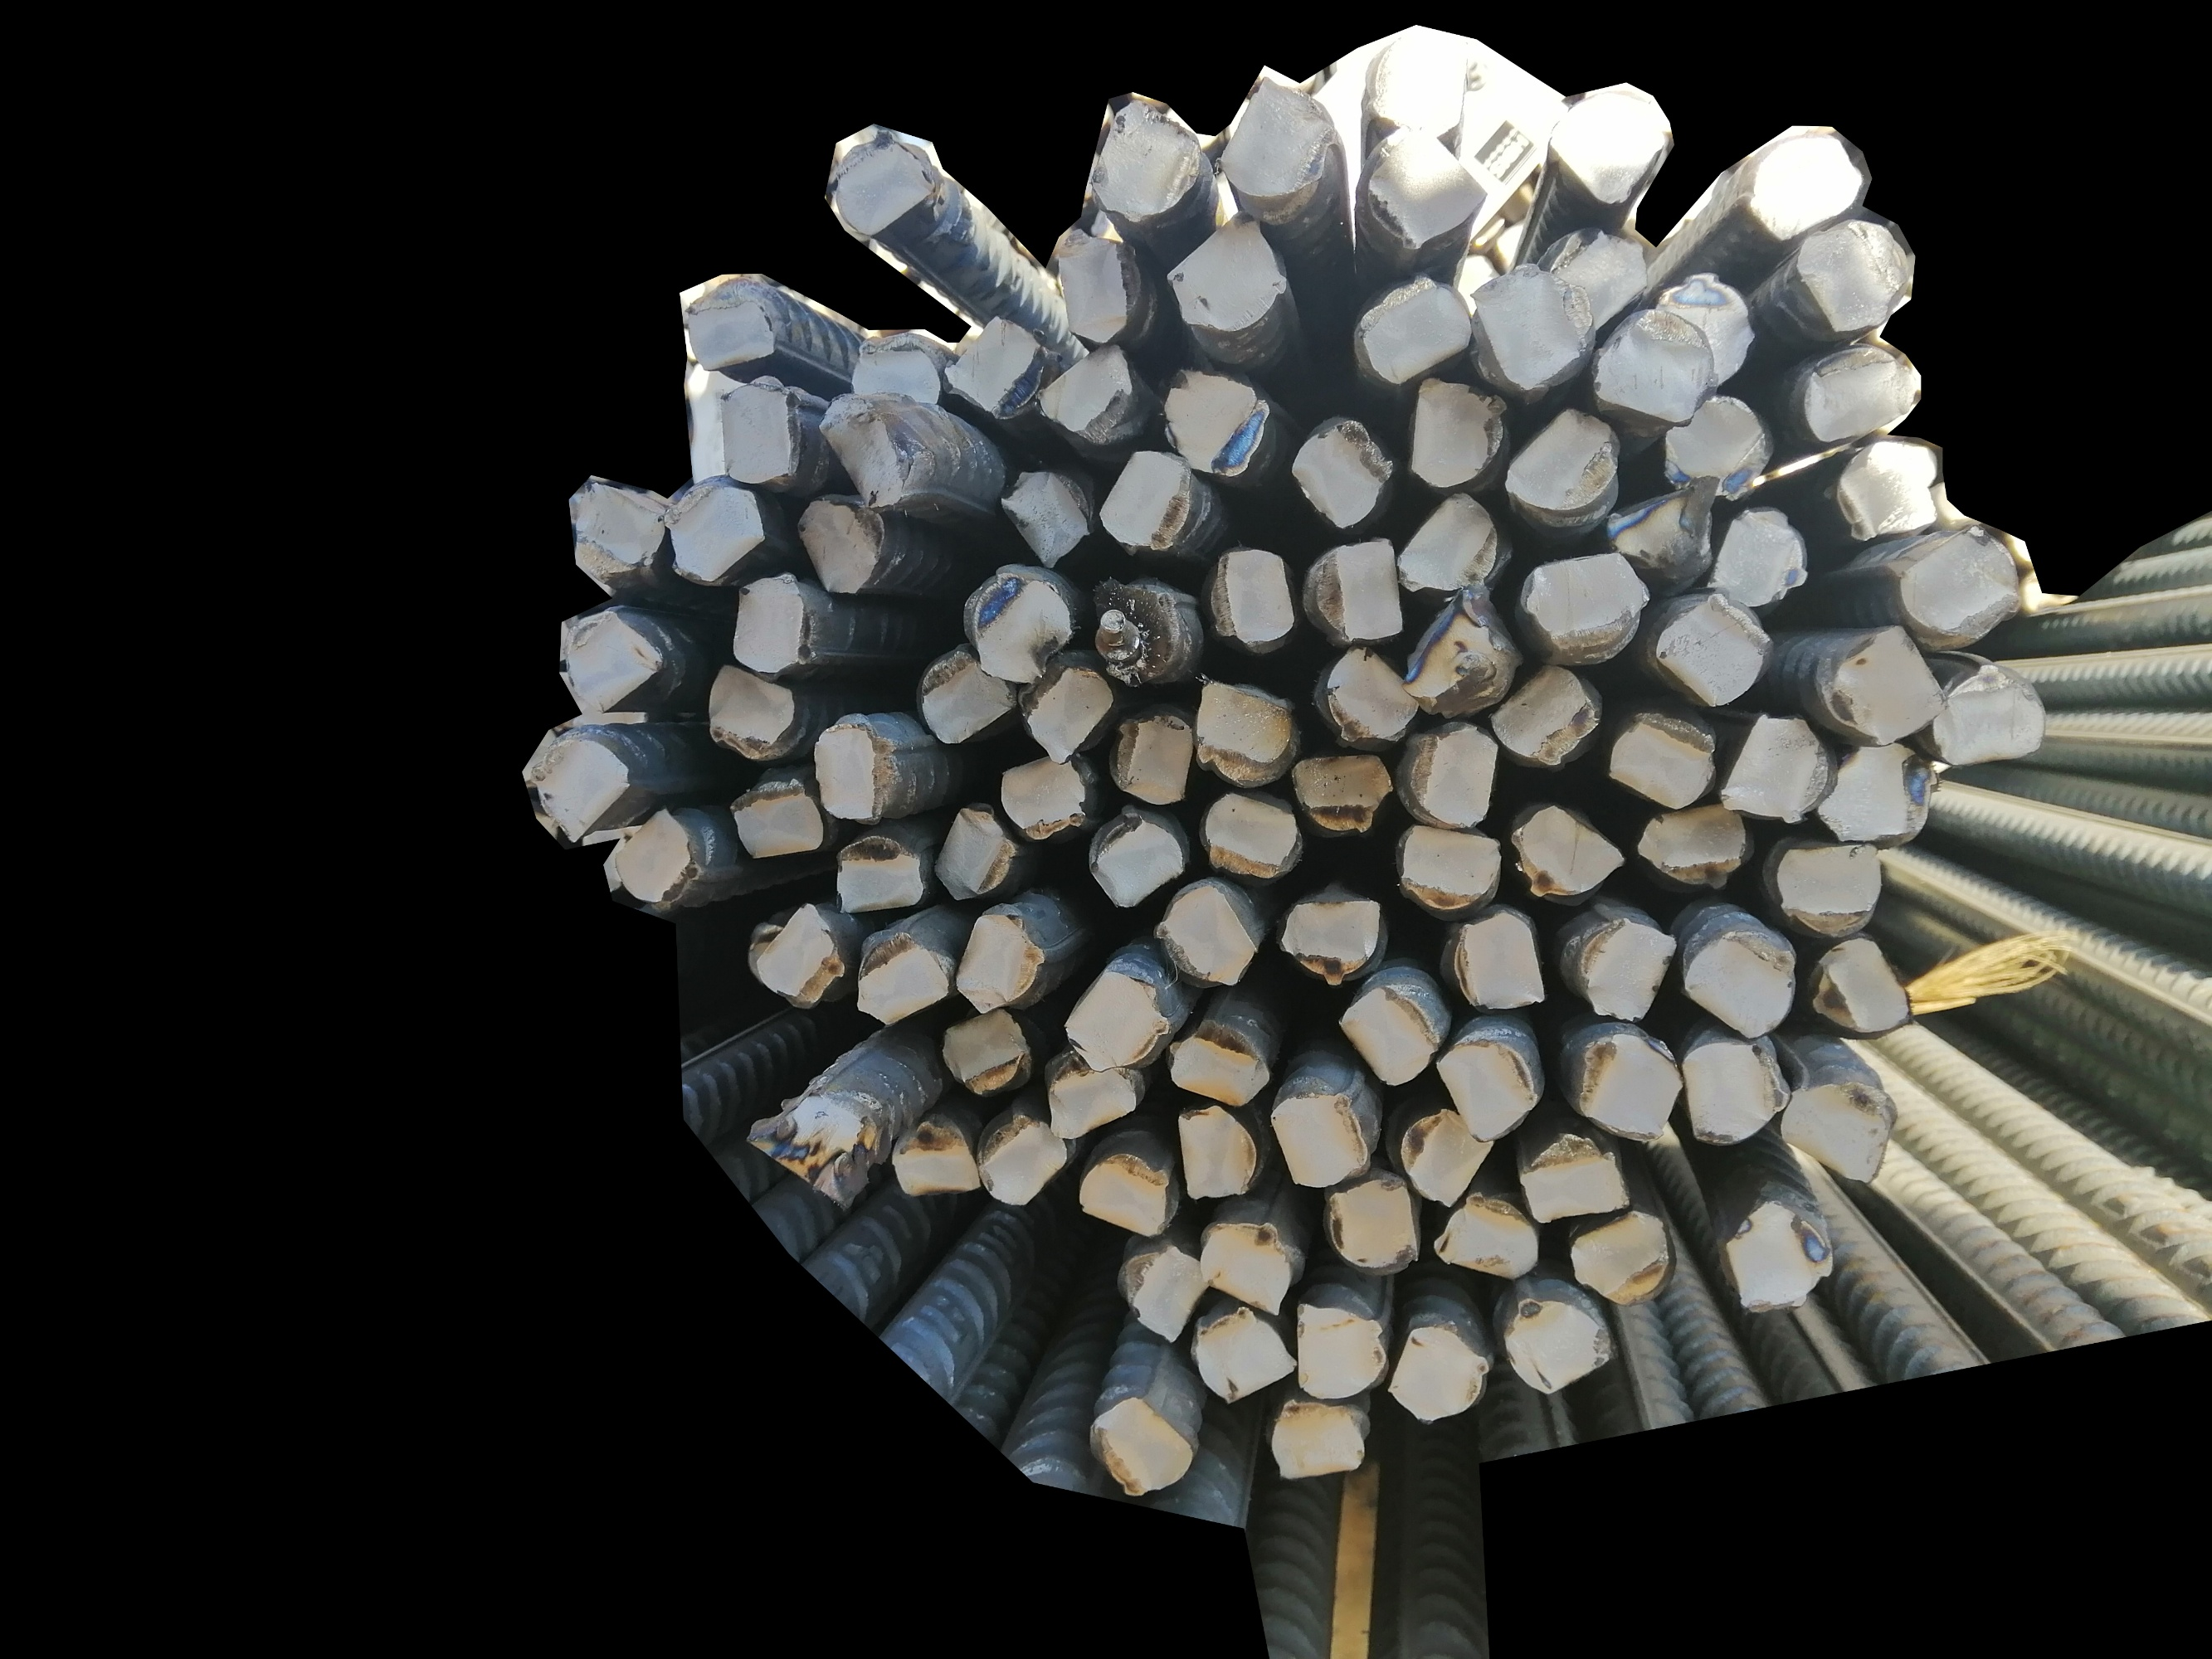rebar: (1469, 260, 1595, 392), (1166, 207, 1290, 336), (1548, 80, 1672, 206), (1217, 77, 1339, 200), (1591, 305, 1715, 427), (1896, 525, 2022, 645), (1745, 122, 1865, 244), (1825, 626, 1949, 744), (1407, 589, 1522, 716), (1520, 549, 1649, 662), (1654, 591, 1774, 711), (748, 1089, 870, 1208), (1368, 125, 1487, 247), (1720, 1190, 1835, 1314), (1095, 96, 1203, 225), (1680, 924, 1797, 1040), (1818, 734, 1938, 847), (1654, 261, 1759, 389), (1534, 221, 1652, 333), (967, 563, 1074, 687), (1928, 662, 2053, 767), (1360, 268, 1471, 385), (1795, 220, 1907, 336), (1722, 711, 1837, 823), (1079, 1392, 1196, 1502), (1572, 1028, 1682, 1143), (1062, 962, 1173, 1072), (1490, 660, 1602, 770), (1504, 408, 1621, 512), (1401, 375, 1511, 484), (1680, 1037, 1790, 1147), (1150, 878, 1259, 990), (1163, 366, 1271, 477), (530, 725, 633, 842), (1799, 342, 1919, 441), (1191, 678, 1300, 786), (1569, 911, 1677, 1021), (1515, 1127, 1633, 1227), (1511, 800, 1626, 901), (1771, 838, 1888, 938), (661, 481, 769, 587), (1265, 1082, 1372, 1190), (1433, 1033, 1541, 1140), (1292, 418, 1394, 530), (1781, 1080, 1893, 1183), (1607, 486, 1717, 589), (1504, 1297, 1614, 1398), (1607, 711, 1717, 810), (561, 608, 664, 713), (1365, 35, 1471, 136), (835, 131, 934, 239), (1663, 396, 1773, 493), (1337, 981, 1438, 1086), (1394, 490, 1499, 591), (1806, 936, 1910, 1037), (1091, 803, 1191, 910), (1307, 535, 1405, 643), (1055, 225, 1142, 345), (917, 645, 1020, 746), (1288, 1297, 1388, 1401), (1835, 441, 1940, 540), (941, 314, 1039, 420), (1023, 657, 1117, 767), (757, 899, 849, 1011), (1407, 718, 1499, 829), (1639, 800, 1750, 892), (1396, 1107, 1496, 1209), (1449, 910, 1548, 1012), (821, 389, 905, 511), (1191, 1305, 1297, 1401), (1163, 1018, 1272, 1110), (811, 716, 901, 828), (1710, 504, 1811, 603), (1283, 892, 1386, 990), (1569, 1209, 1673, 1305), (1100, 448, 1196, 552), (572, 481, 669, 582), (1116, 1239, 1211, 1342), (856, 931, 955, 1028), (973, 1110, 1070, 1209), (1320, 1175, 1419, 1272), (1391, 1326, 1487, 1427), (1206, 542, 1297, 648), (1198, 1218, 1295, 1316), (1039, 340, 1135, 439), (955, 911, 1046, 1016), (1072, 1147, 1177, 1237), (1433, 1192, 1541, 1279), (1286, 749, 1394, 836), (706, 664, 802, 762), (1401, 823, 1504, 913), (682, 277, 781, 369), (1089, 586, 1182, 685), (795, 495, 885, 596), (1199, 793, 1300, 884), (1325, 645, 1417, 742), (1002, 465, 1091, 566), (1267, 1398, 1368, 1486), (718, 376, 797, 488), (1171, 1101, 1259, 1201), (614, 809, 699, 910), (940, 1007, 1035, 1096), (933, 803, 1020, 901), (727, 775, 826, 861), (732, 572, 812, 676), (1109, 711, 1196, 807), (1001, 753, 1088, 840), (833, 836, 926, 918), (1048, 1066, 1142, 1147), (891, 1121, 981, 1201), (845, 333, 940, 410)
